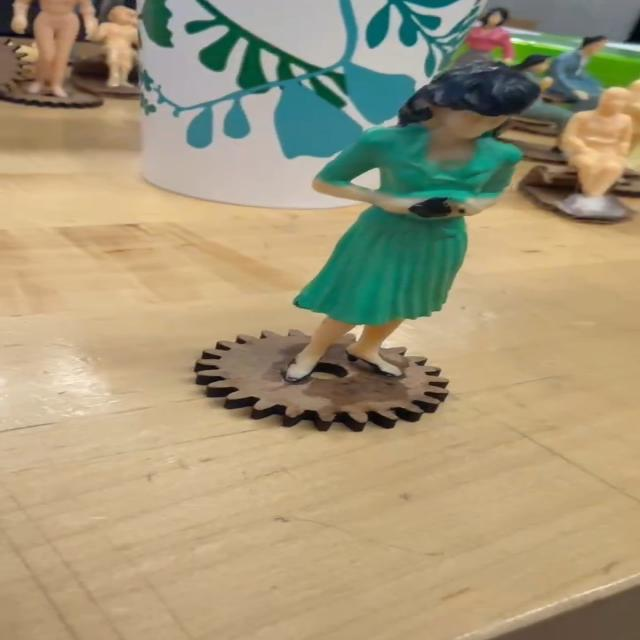Authorized: (229, 46, 551, 383)
